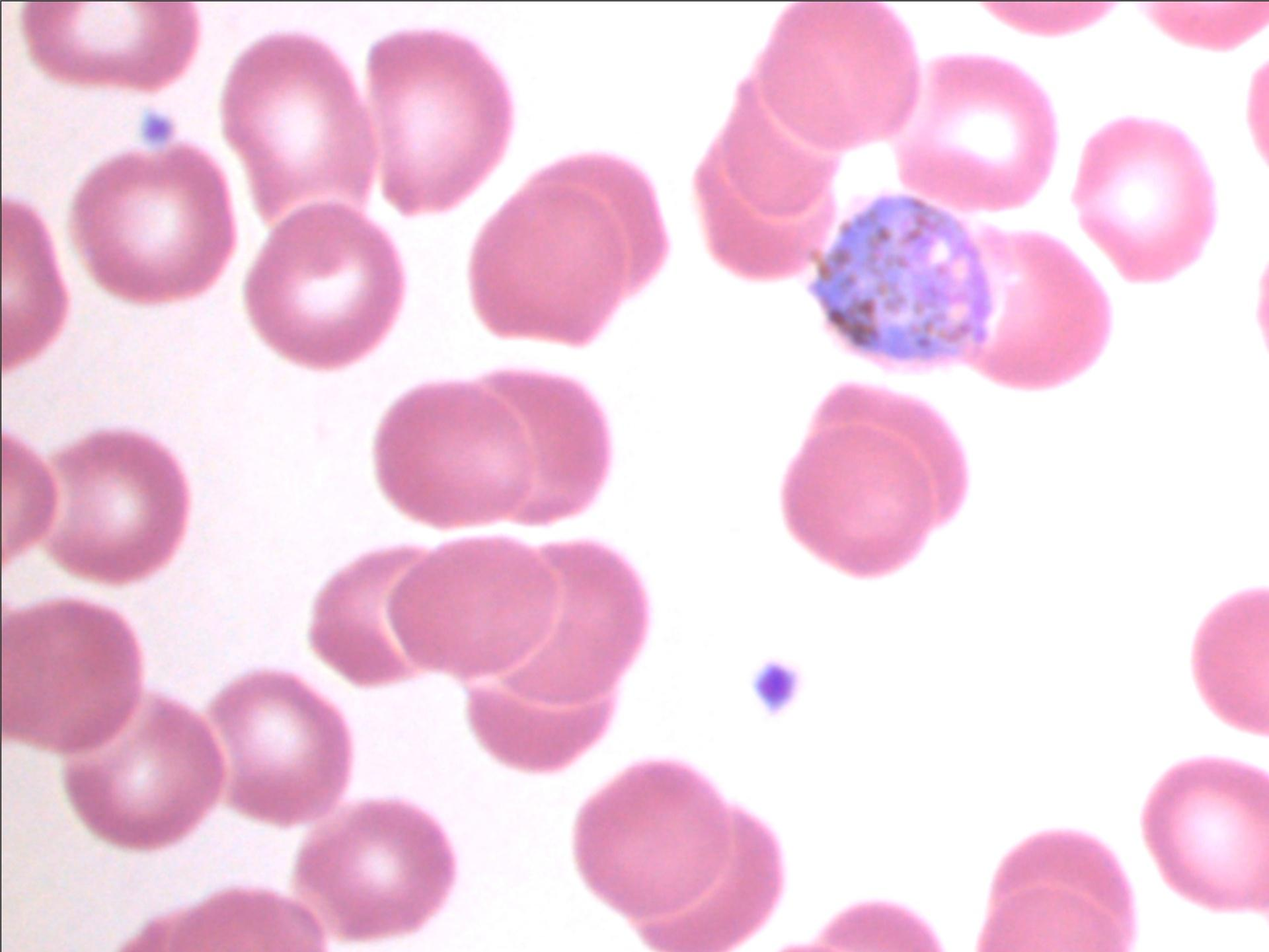Infected: (806, 184, 993, 369)
Uninfected: (221, 34, 380, 223), (480, 542, 646, 711), (244, 202, 404, 367), (369, 30, 513, 213), (73, 145, 235, 304), (392, 535, 564, 682), (900, 55, 1058, 214), (471, 188, 626, 347), (1074, 116, 1217, 279), (66, 702, 224, 849), (574, 765, 733, 911), (763, 2, 920, 149), (375, 383, 533, 527), (792, 422, 942, 571), (527, 155, 674, 306), (208, 675, 350, 826), (296, 801, 449, 941), (481, 369, 613, 527), (5, 599, 140, 753), (57, 430, 195, 578), (971, 231, 1106, 380), (708, 82, 842, 231), (1141, 759, 1269, 910), (312, 546, 435, 688)
